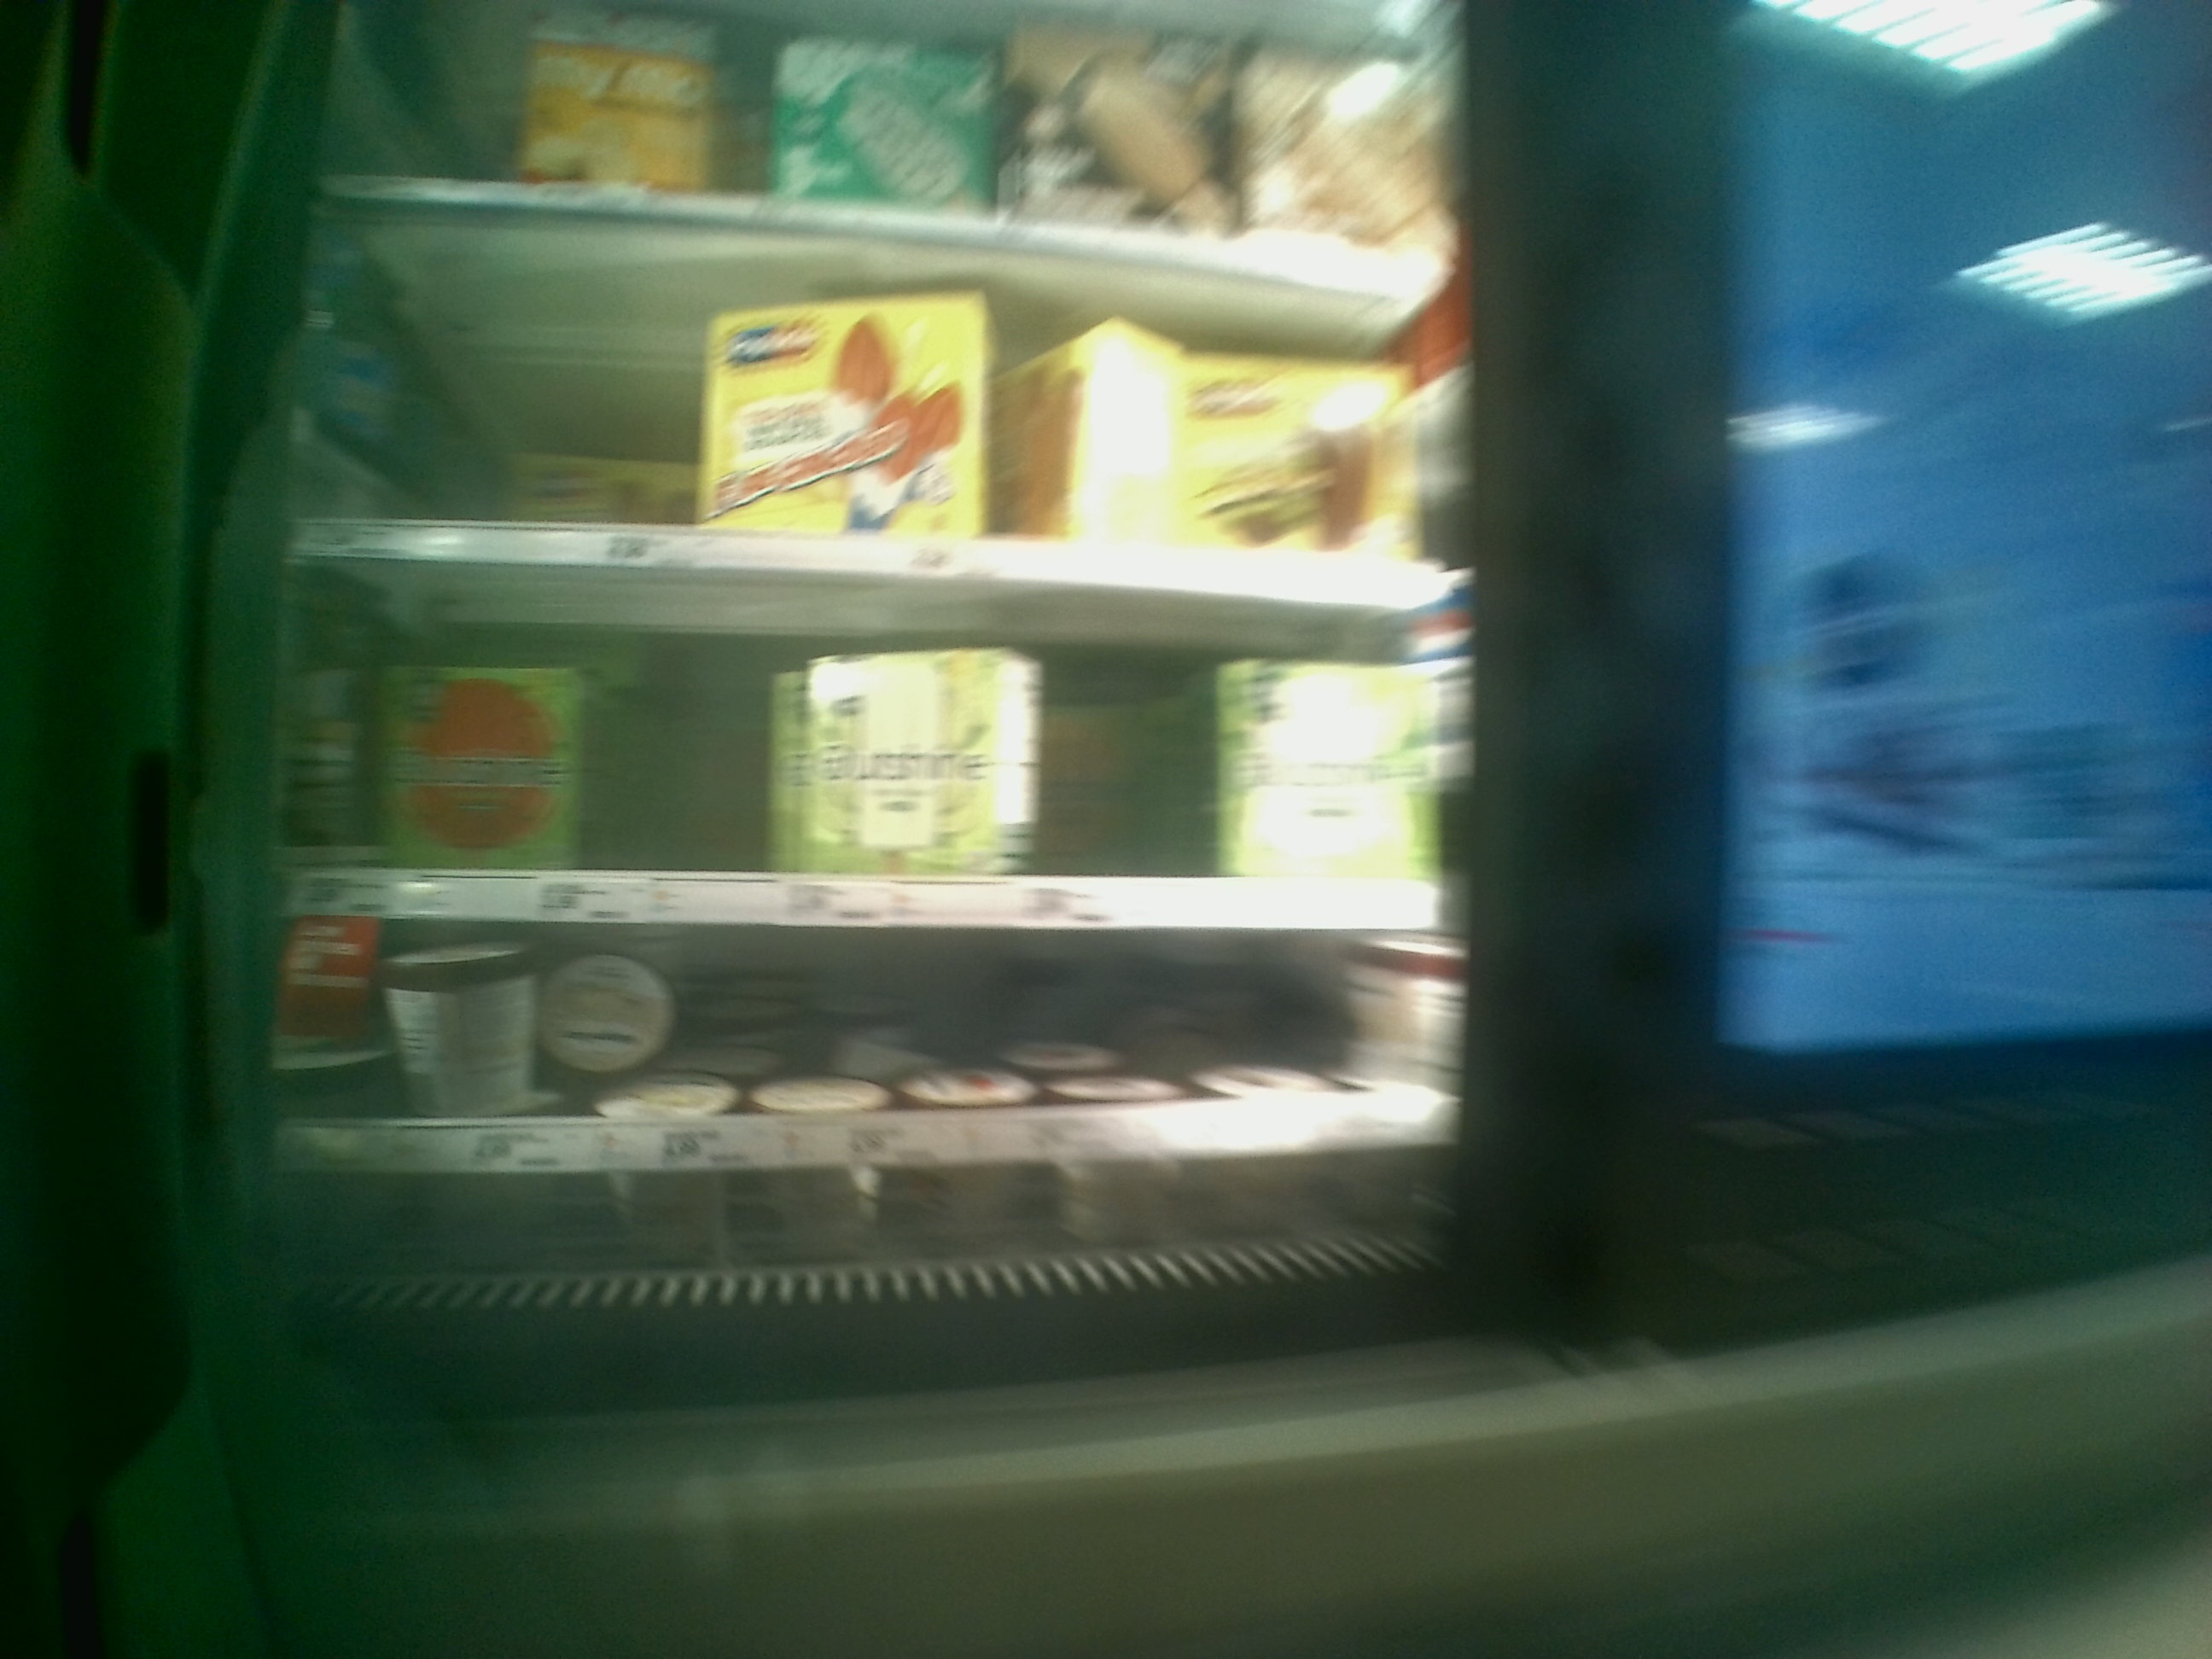shelf: (268, 552, 1456, 929), (258, 927, 1475, 1241)
